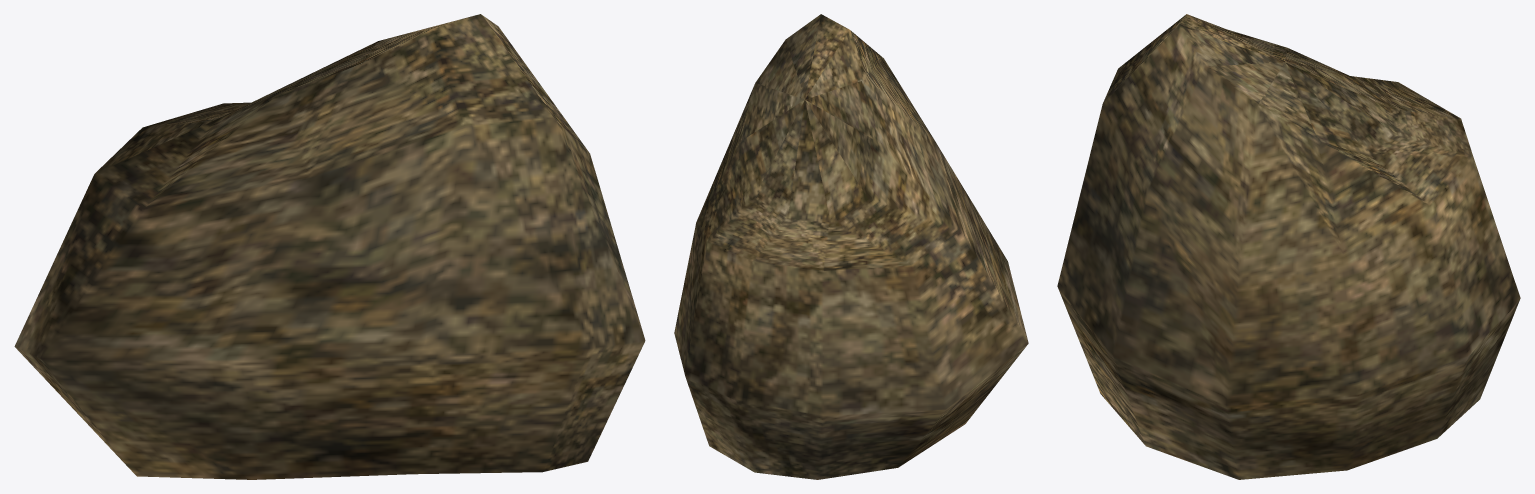
File: CH09_SMAUG_PLAYSURFACE_LONELYMOUNTAIN_LM_PLAYSURFACE39.fbx
3 views of the same model, side by side, from view 1: azimuth 30°, elevation 25°; view 2: azimuth 150°, elevation 25°; view 3: azimuth 270°, elevation 25° (orthographic). The views are drawn at different scales.
Visible parts, largest first — view 1: CH09_SMAUG_PLAYSURFACE_LONELYMOUNTAIN_LM_PLAYSURFACE39; view 2: CH09_SMAUG_PLAYSURFACE_LONELYMOUNTAIN_LM_PLAYSURFACE39; view 3: CH09_SMAUG_PLAYSURFACE_LONELYMOUNTAIN_LM_PLAYSURFACE39.
Part boxes in pixels (x1=…): CH09_SMAUG_PLAYSURFACE_LONELYMOUNTAIN_LM_PLAYSURFACE39: x1=14, y1=14, x2=645, y2=479; CH09_SMAUG_PLAYSURFACE_LONELYMOUNTAIN_LM_PLAYSURFACE39: x1=674, y1=14, x2=1028, y2=479; CH09_SMAUG_PLAYSURFACE_LONELYMOUNTAIN_LM_PLAYSURFACE39: x1=1057, y1=14, x2=1520, y2=479.
Size of the model in its own units: 55424 by 49840 by 50452.
Materials: 1 (1 with a texture image).
